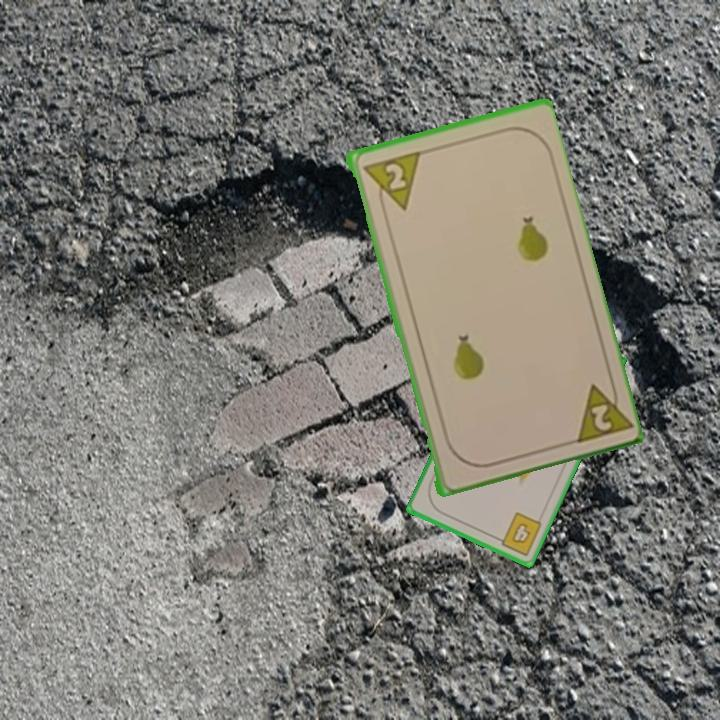2p: (568, 374, 632, 446), (358, 147, 422, 217)
4b: (491, 508, 545, 559)
